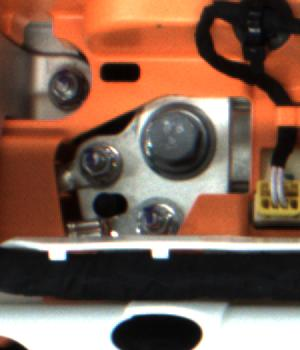nut_b: (135, 99, 214, 177)
screw_s: (136, 193, 177, 235), (47, 63, 81, 108), (76, 145, 117, 179)
